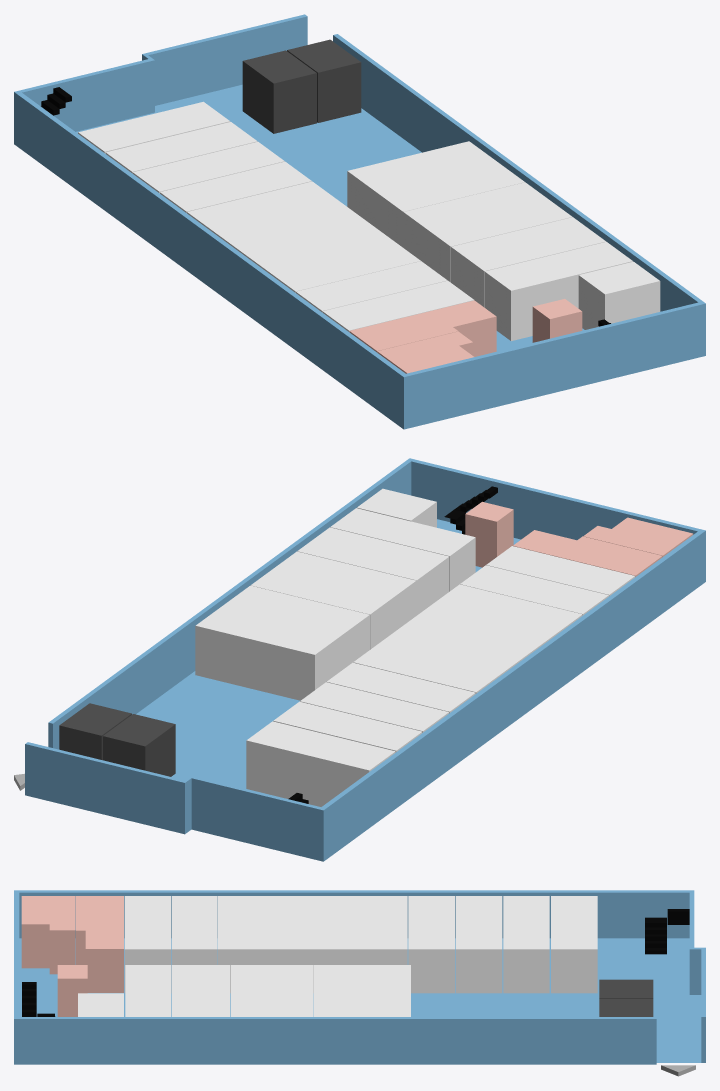
The picture shows the model from 3 angles, top to bottom: view 1: azimuth 30°, elevation 25°; view 2: azimuth 150°, elevation 25°; view 3: azimuth 270°, elevation 25°; orthographic projection. The views are drawn at different scales.
Visible parts, largest first — view 1: object, 社会知性開発研究センター事務室, 研究室受付, エレベーター_3_1_1, 社会知性開発研究センター3, 社会知性開発研究センター5, 社会知性開発研究センター4, 男子トイレ_3_1, 印刷室, 研究科長室_3_1_4, 研究科長室_3_1_3, 研究科長室_3_1_2 (+5 smaller); view 2: object, 研究室受付, 社会知性開発研究センター事務室, 研究科長室_3_1_4, 社会知性開発研究センター3, エレベーター_3_1_1, 社会知性開発研究センター4, 社会知性開発研究センター5, 研究科長室_3_1_3, 研究科長室_3_1_2, 研究科長室_3_1_1, 社会知性開発研究センター1 (+6 smaller); view 3: object, 社会知性開発研究センター事務室, 研究室受付, 研究科長室_3_1_2, 研究科長室_3_1_3, 研究科長室_3_1_4, 研究科長室_3_1_1, 男子トイレ_3_1, 社会知性開発研究センター3, 女子トイレ_3_1, 社会知性開発研究センター1, 社会知性開発研究センター2 (+7 smaller).
Boxes of the visible parts, x1,y1,x2,y2 form: object: (14, 14, 705, 429); 社会知性開発研究センター事務室: (187, 181, 420, 292); 研究室受付: (347, 141, 524, 247); エレベーター_3_1_1: (242, 39, 361, 133); 社会知性開発研究センター3: (403, 182, 572, 282); 社会知性開発研究センター5: (484, 242, 632, 341); 社会知性開発研究センター4: (451, 217, 606, 307); 男子トイレ_3_1: (349, 300, 496, 356); 印刷室: (578, 261, 660, 329); 研究科長室_3_1_4: (78, 101, 230, 153); 研究科長室_3_1_3: (105, 122, 257, 173); 研究科長室_3_1_2: (132, 142, 284, 193); object: (25, 458, 705, 861); 研究室受付: (195, 585, 369, 700); 社会知性開発研究センター事務室: (353, 584, 582, 693); 研究科長室_3_1_4: (246, 721, 395, 806); 社会知性開発研究センター3: (251, 551, 416, 649); エレベーター_3_1_1: (59, 703, 175, 776); 社会知性開発研究センター4: (297, 527, 449, 615); 社会知性開発研究センター5: (330, 508, 475, 591); 研究科長室_3_1_3: (273, 701, 422, 752); 研究科長室_3_1_2: (300, 682, 448, 732); 研究科長室_3_1_1: (327, 662, 475, 713); 社会知性開発研究センター1: (486, 546, 635, 596); object: (14, 890, 705, 1064); 社会知性開発研究センター事務室: (218, 896, 407, 993); 研究室受付: (313, 965, 410, 1016); 研究科長室_3_1_2: (455, 896, 502, 993); 研究科長室_3_1_3: (503, 896, 549, 993); 研究科長室_3_1_4: (551, 896, 597, 993); 研究科長室_3_1_1: (408, 896, 454, 993); 男子トイレ_3_1: (76, 896, 123, 992); 社会知性開発研究センター3: (230, 965, 312, 1016); 女子トイレ_3_1: (21, 896, 75, 974); 社会知性開発研究センター1: (124, 896, 170, 992); 社会知性開発研究センター2: (171, 896, 217, 992).
Size of the model in its own units: 1.19 by 0.1921 by 2.52.
